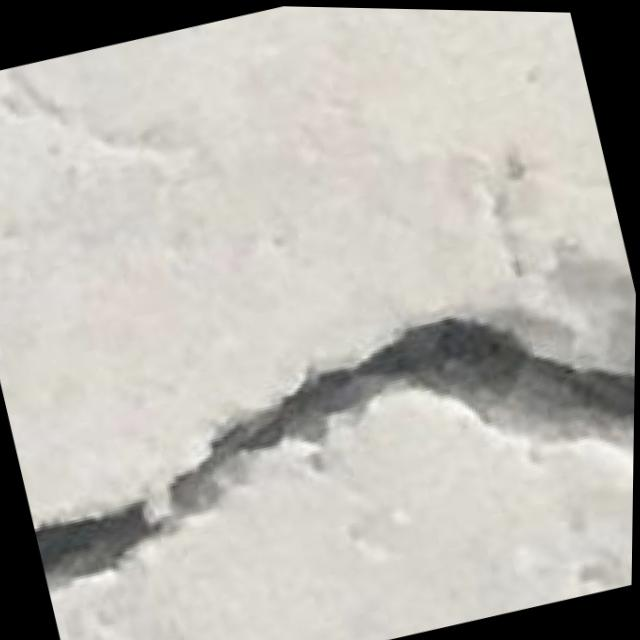Crack: (0, 225, 637, 617)
